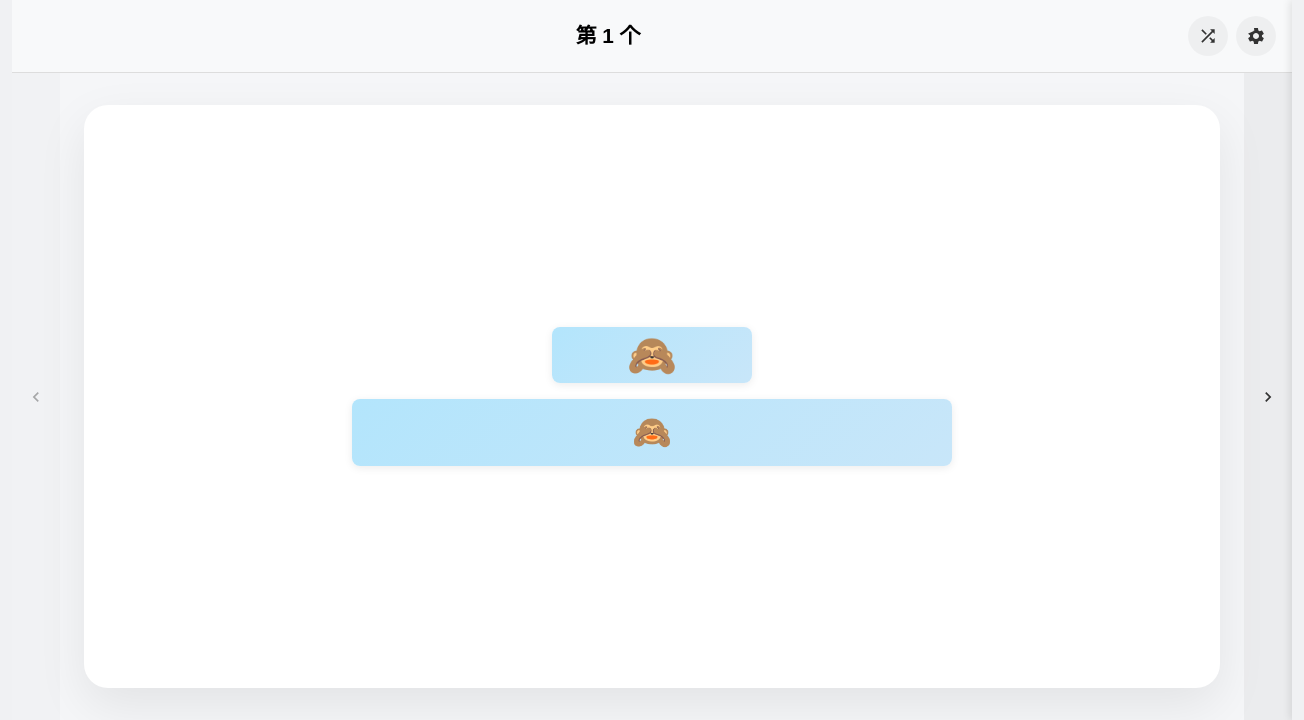
Test: HanziView.vue › mask reset on navigation › resets masks when navigating to next character
This screenshot has width=1304, height=720.
// Reveal both pinyin and words
Click the 1st element showing "🙈".
click(652, 354)  # box [552,326,752,382]
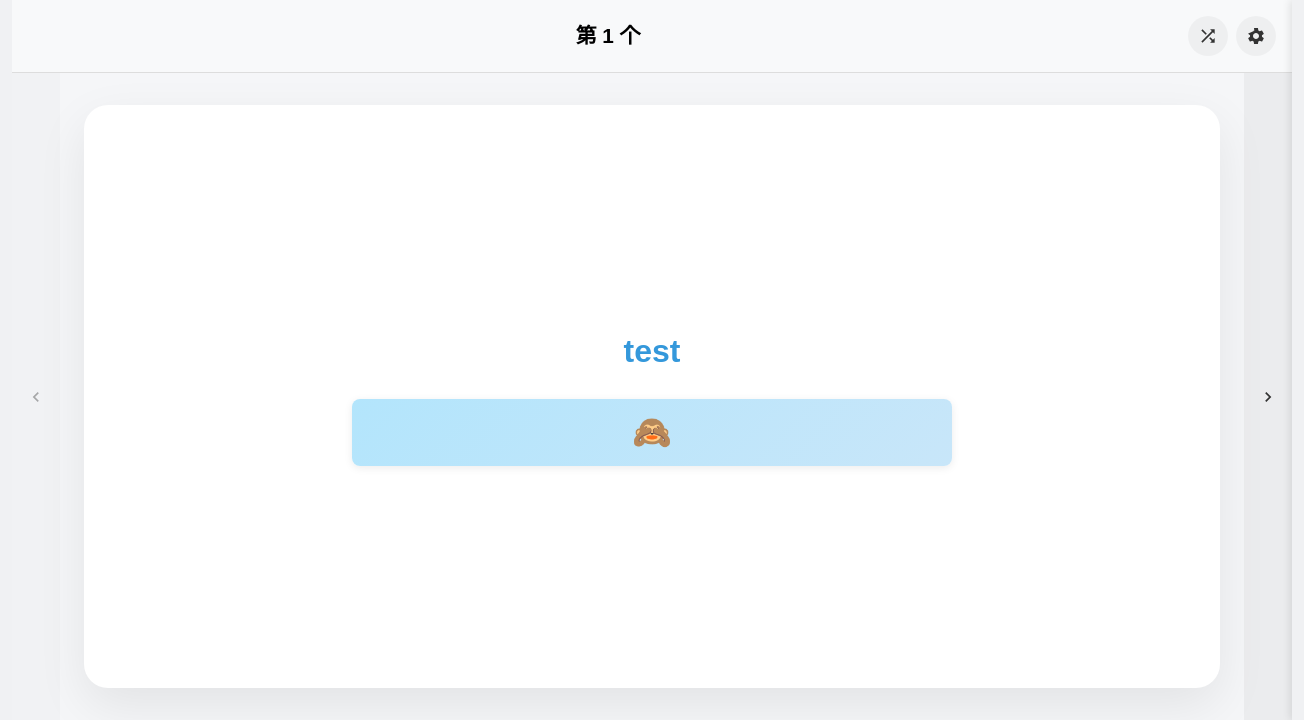
Click the element with class "word-groups-container".
click(652, 432)  # box [352,398,952,466]
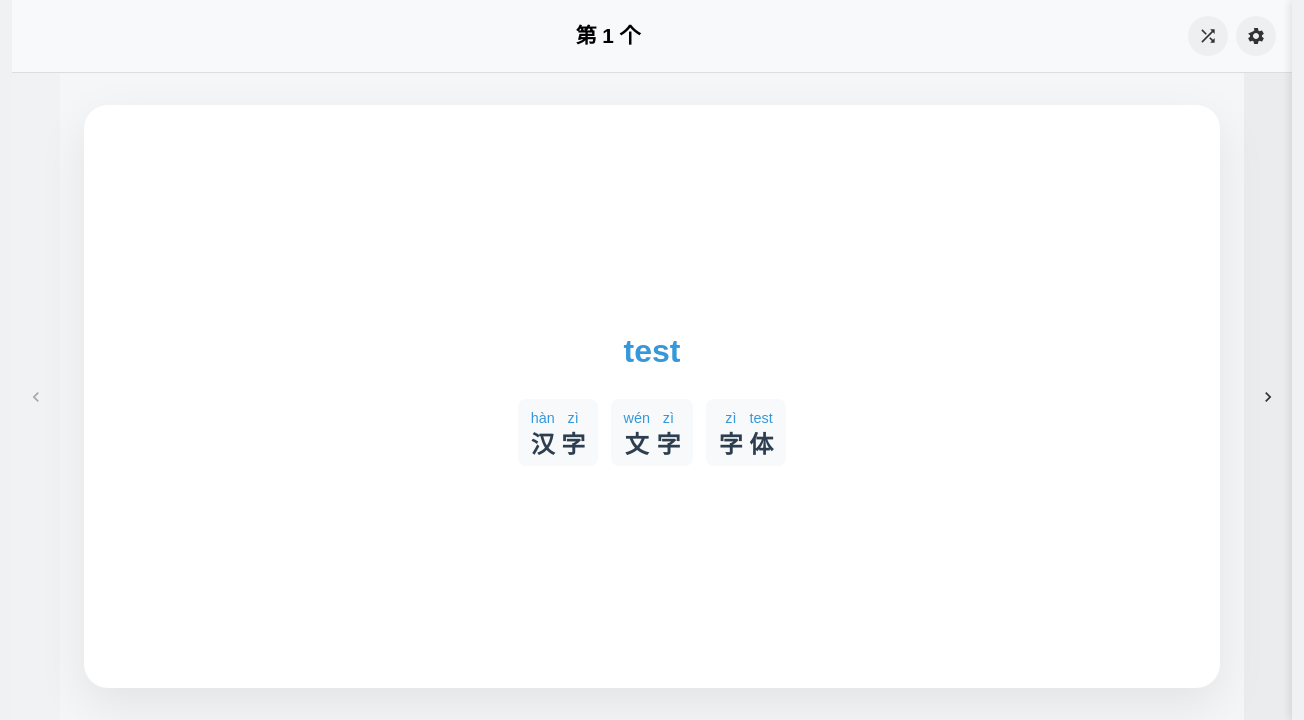
// Navigate to next
Click the button with class "right".
click(1268, 396)  # box [1244,73,1292,719]
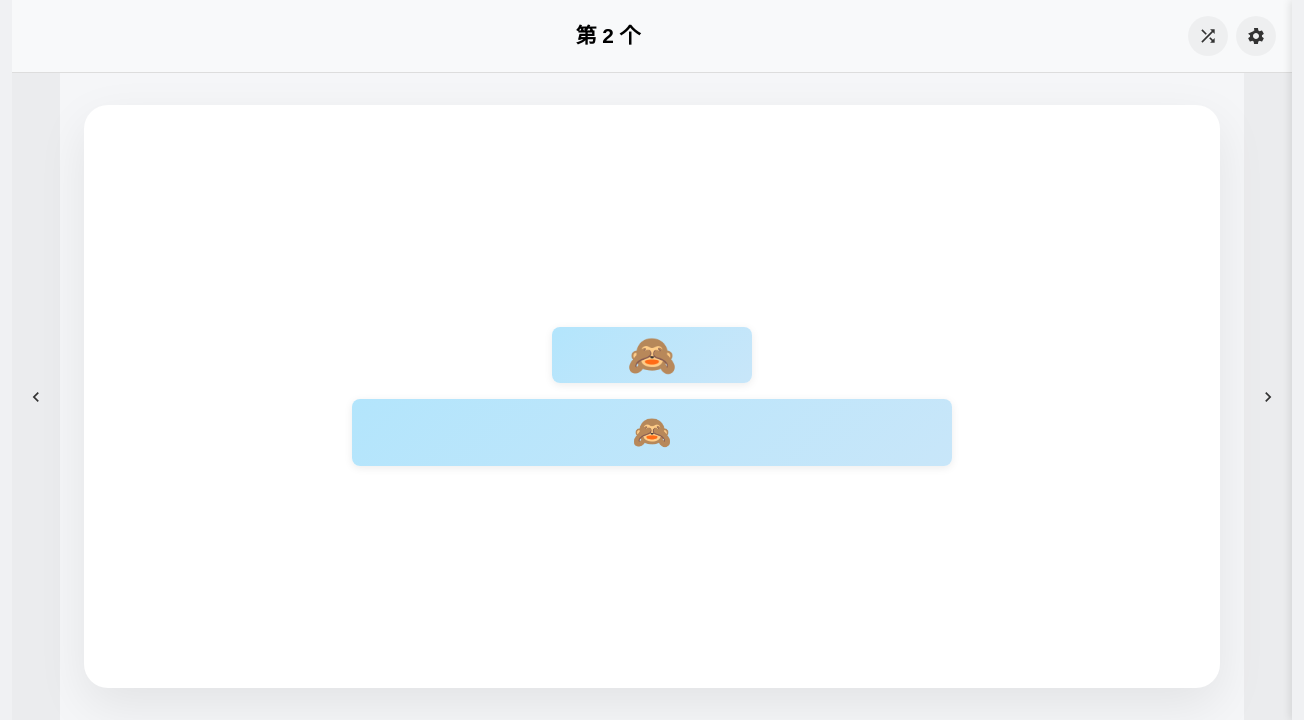
Result: the 1st text "🙈" is shown at [552,326,752,382]
Result: the text with class "word-groups-mask" is shown at [352,398,952,466]
